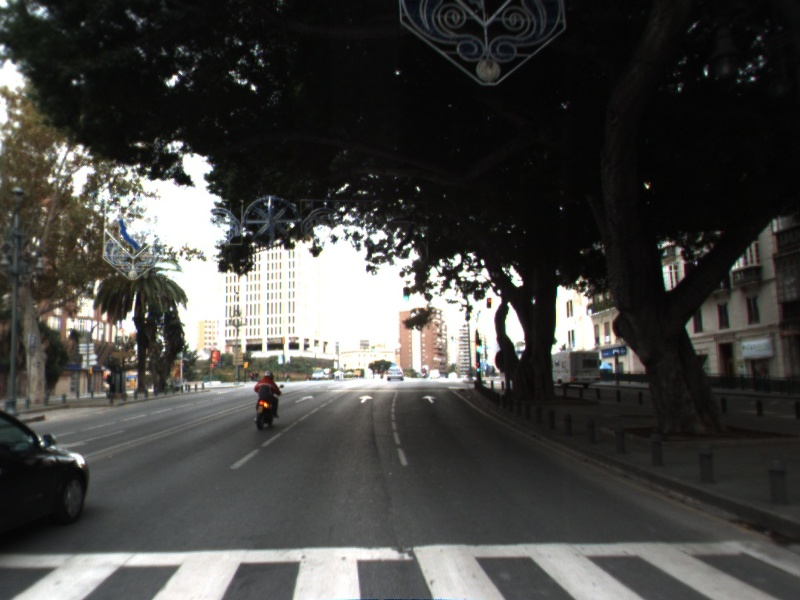STRAIGHT: (292, 393, 316, 405), (356, 393, 376, 406), (420, 393, 439, 405)
